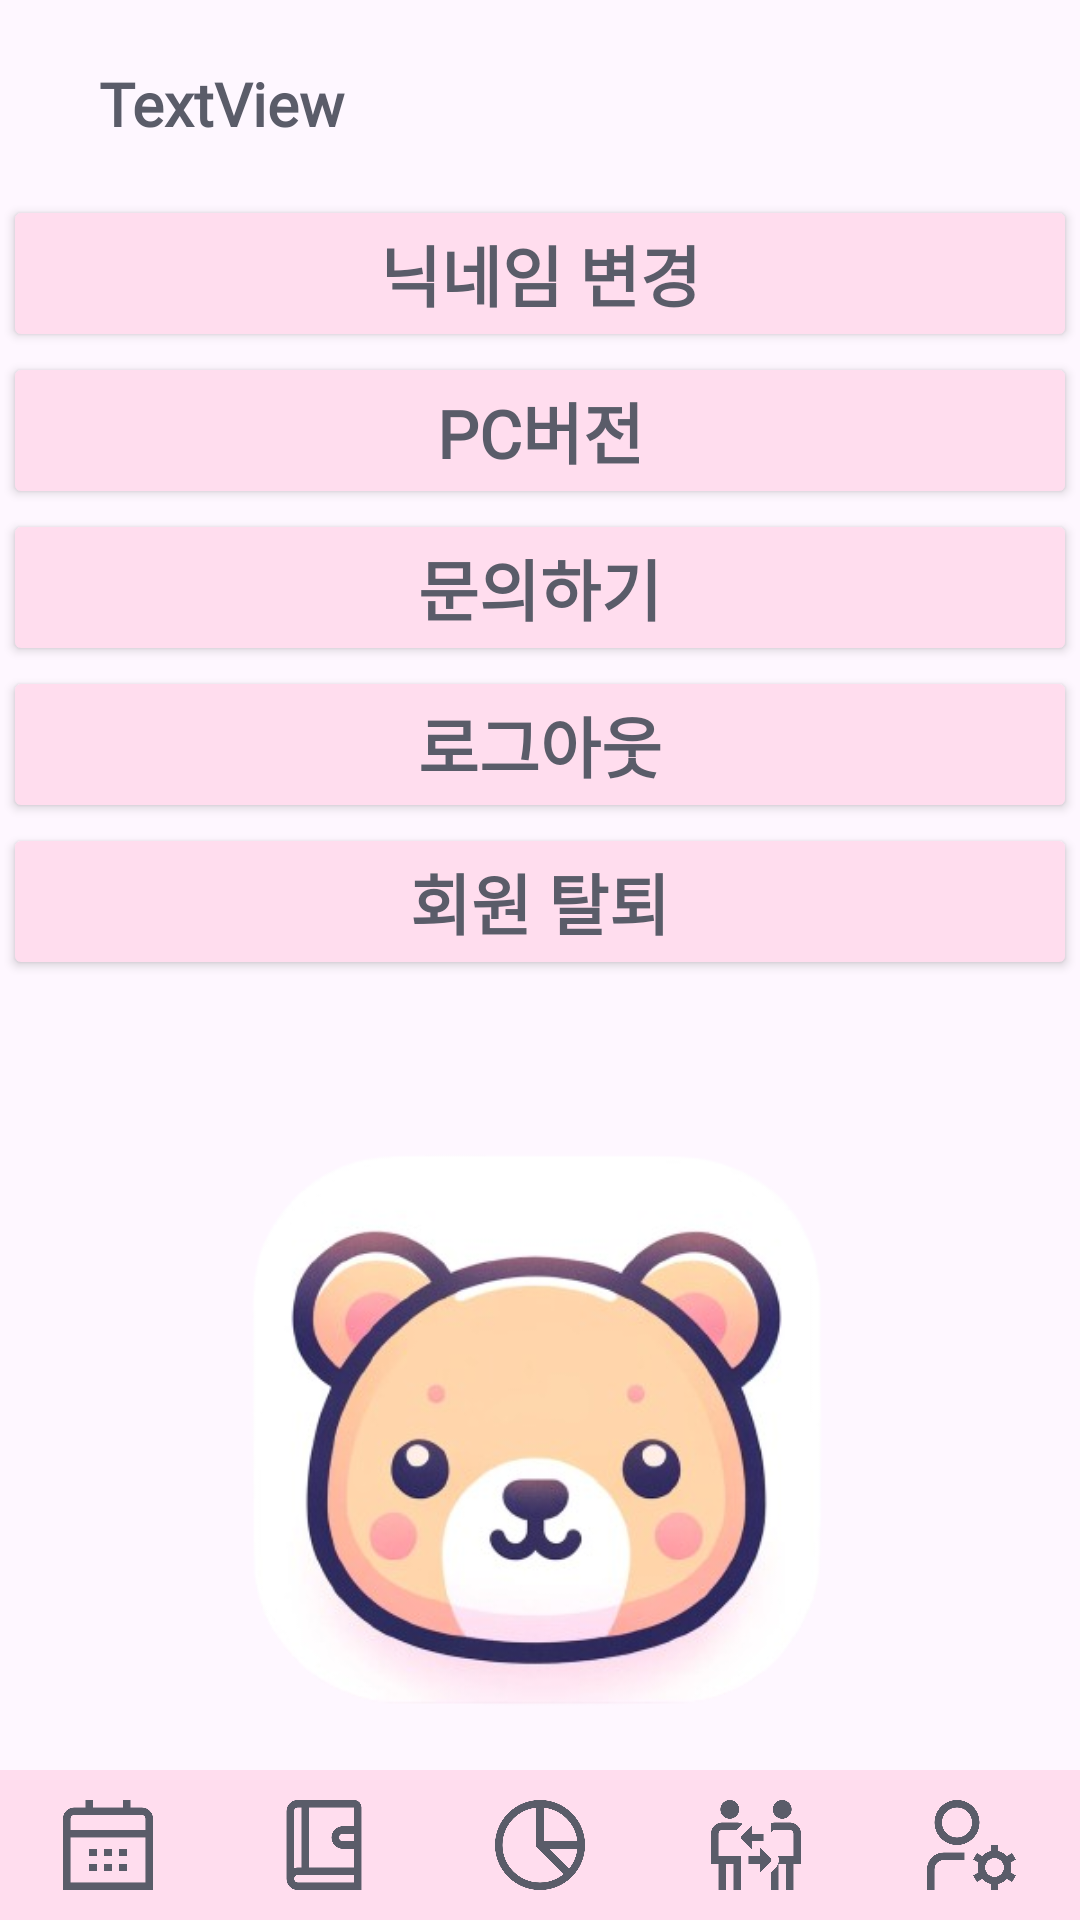

Named icons in this screenshot (1080x1920) and their bounding boxes, (x1, y1, x2, y2):
admin: (927, 1800, 1016, 1890)
chart: (495, 1800, 585, 1890)
diary: (286, 1800, 362, 1890)
iconcalendar: (63, 1800, 153, 1890)
social: (711, 1800, 801, 1890)
